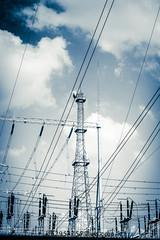power_tower: (64, 85, 103, 236)
